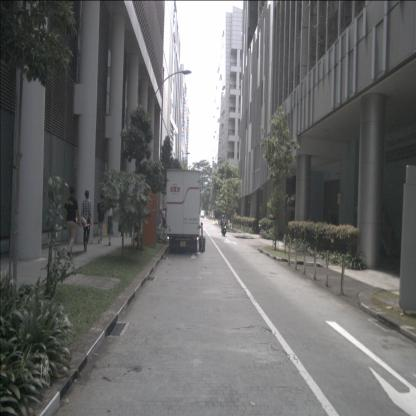human-pedestrian-adult: (64, 186, 80, 258), (80, 189, 92, 253), (96, 193, 106, 244), (104, 198, 114, 246), (73, 213, 88, 228), (162, 208, 166, 229), (165, 207, 168, 229), (159, 208, 162, 227)
vehicle-car: (200, 210, 205, 218)
vehicle-motorcycle: (221, 215, 226, 236)
vehicle-truck: (166, 168, 200, 254)
